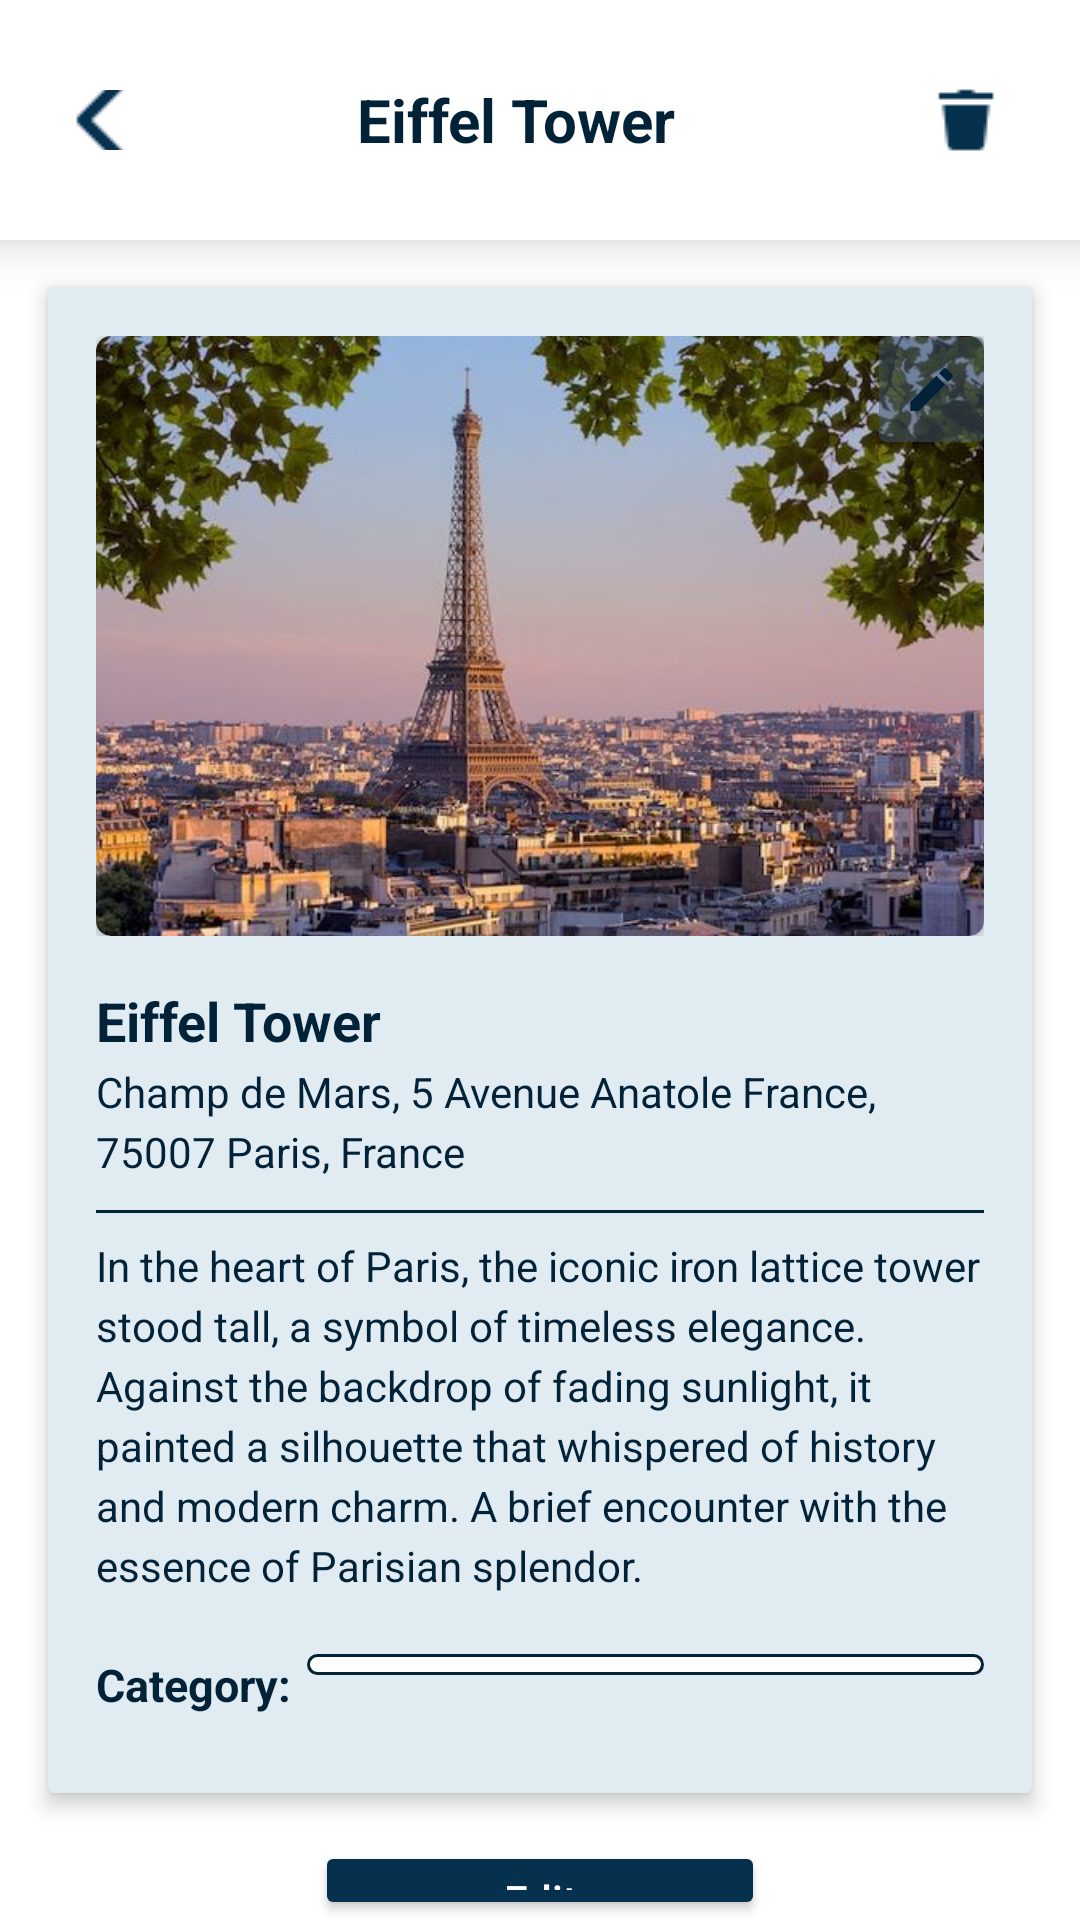

Point at icon controls on the screen. Image size 1080px×1920px, points as point (x, y).
back: point (100, 120)
delete: point (966, 120)
edit: point (931, 389)
